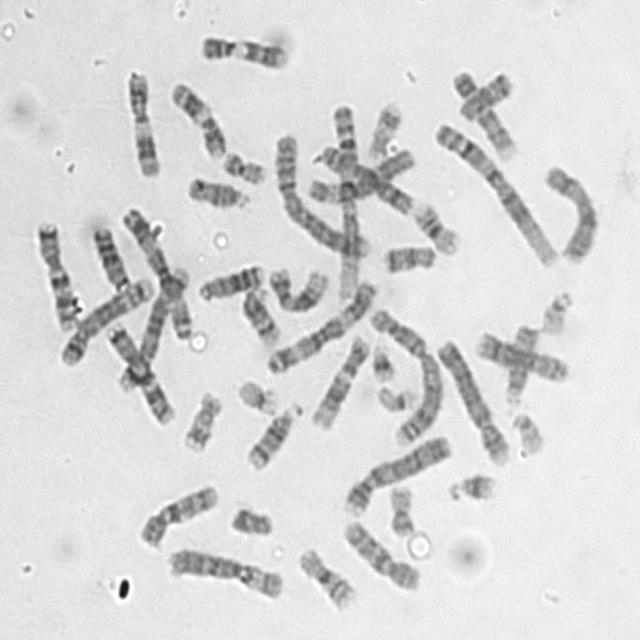A1: (428, 114, 561, 269), (324, 92, 363, 306)
A2: (268, 127, 369, 260), (362, 300, 444, 446)
A3: (260, 273, 380, 375), (115, 199, 196, 342)
B4: (431, 330, 513, 467), (336, 426, 454, 517)
B5: (110, 256, 193, 393), (54, 270, 158, 368)
C10: (335, 511, 423, 594), (132, 476, 221, 548)
C11: (163, 73, 228, 161), (119, 62, 162, 179)
C12: (304, 326, 372, 432), (261, 258, 330, 315)
C6: (308, 139, 418, 213), (160, 540, 286, 602)
C7: (98, 312, 179, 427), (28, 212, 79, 333)
C8: (314, 149, 415, 220), (470, 324, 570, 384)
C9: (447, 61, 520, 161), (192, 25, 292, 72)
D13: (191, 254, 267, 302), (85, 216, 133, 292)
D14: (239, 396, 301, 471), (235, 279, 282, 348)
D15: (497, 316, 541, 407), (180, 168, 253, 210)
E16: (291, 538, 358, 612), (407, 193, 463, 257)
E17: (175, 383, 223, 455), (362, 93, 403, 161)
E18: (452, 63, 514, 122), (376, 236, 438, 276)
F19: (230, 371, 280, 416), (371, 375, 420, 414)
F20: (215, 142, 268, 185), (383, 476, 417, 538)
G21: (440, 465, 498, 504), (365, 335, 398, 383)
G22: (533, 282, 576, 336), (505, 404, 547, 458)
X: (537, 154, 601, 266)
Y: (223, 498, 275, 538)
